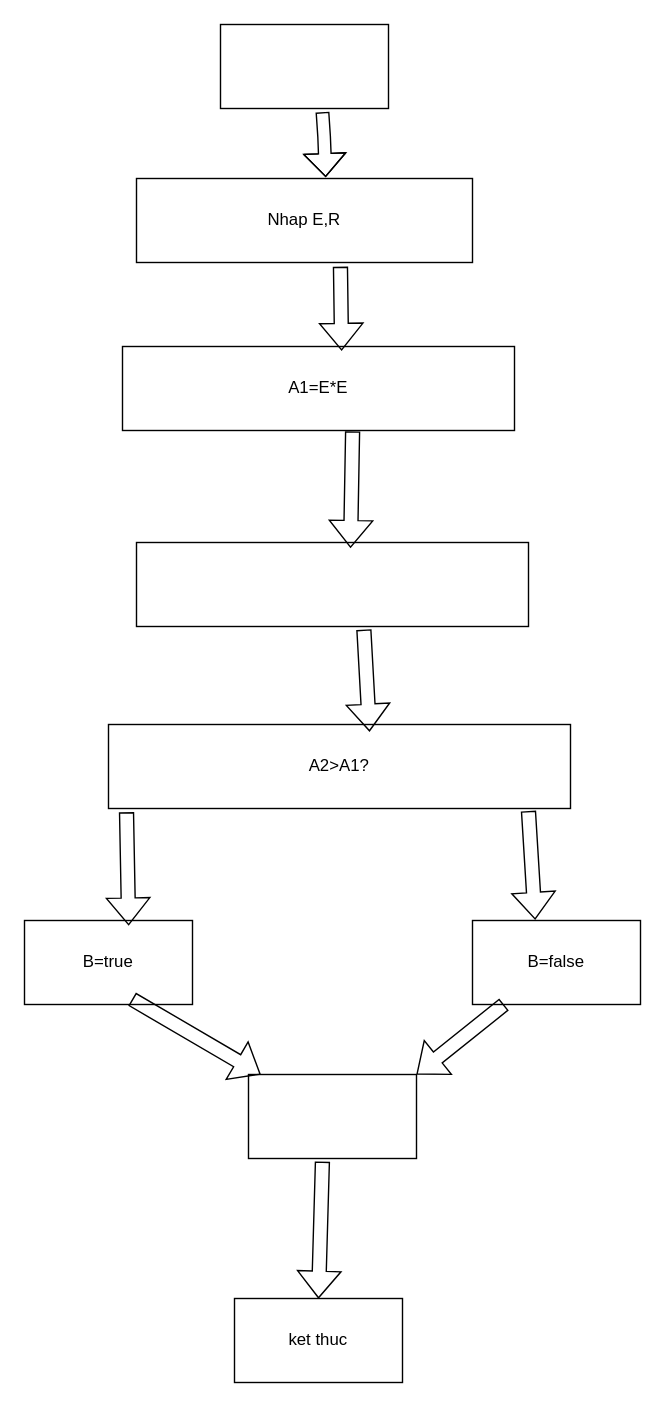
This 665x1407 diagram has some shape labels left out. Here are the shapes that lost their labels. From the top down, the centre of each, then its label:
At point (303, 65): "bat dau".
At point (331, 583): "A2=3.14.R.R".
At point (331, 1115): "xuat B".
